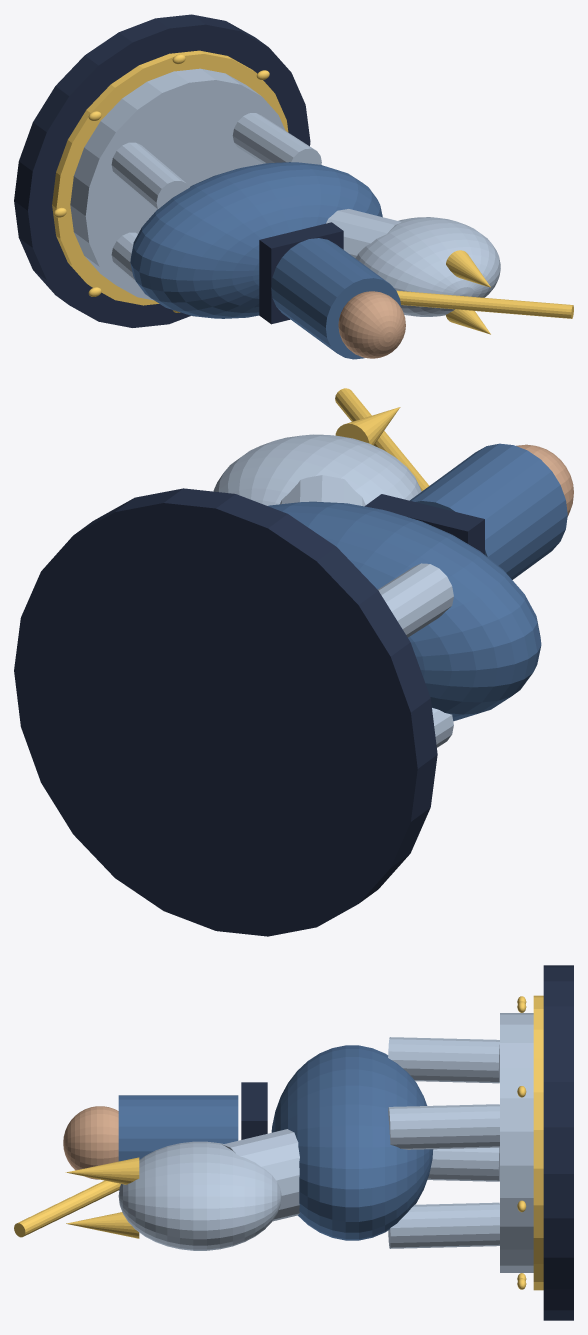
The model's file is hero_knight.glb.
3 renders of one model, top to bottom at view 1: azimuth 30°, elevation 25°; view 2: azimuth 150°, elevation 25°; view 3: azimuth 270°, elevation 25°, orthographic. The views are drawn at different scales.
Parts seen in each view (by area): view 1: body, base, base2, head, ring1, rider, rhead, leg-0.380.25, leg0.380.25, saddle, lance, neck (+3 smaller); view 2: base, body, rider, head, leg-0.380.25, saddle, neck, lance, horn1, rhead; view 3: body, head, base, base2, rider, leg0.380.25, leg-0.380.25, leg0.38-0.25, ring1, neck, rhead, leg-0.38-0.25 (+4 smaller).
Boxes of the visible parts, box(x1,y1,x2,y2) form: body: box(130, 162, 382, 318); base: box(14, 14, 310, 327); base2: box(70, 68, 285, 300); head: box(355, 217, 500, 316); ring1: box(52, 50, 288, 305); rider: box(271, 238, 401, 359); rhead: box(338, 291, 405, 358); leg-0.380.25: box(111, 142, 189, 209); leg0.380.25: box(232, 113, 321, 164); saddle: box(259, 222, 343, 324); lance: box(396, 290, 573, 318); neck: box(326, 209, 400, 258); base: box(14, 488, 437, 936); body: box(268, 501, 541, 721); rider: box(410, 443, 567, 579); head: box(213, 434, 421, 505); leg-0.380.25: box(378, 563, 453, 637); saddle: box(365, 494, 484, 554); neck: box(280, 475, 365, 506); lance: box(335, 388, 429, 491); horn1: box(335, 407, 400, 445); rhead: box(516, 444, 573, 516); body: box(271, 1045, 433, 1240); head: box(118, 1141, 281, 1250); base: box(543, 965, 573, 1320); base2: box(500, 1013, 533, 1272); rider: box(118, 1095, 238, 1190); leg0.380.25: box(388, 1104, 499, 1149); leg-0.380.25: box(388, 1037, 499, 1083); leg0.38-0.25: box(388, 1202, 499, 1248); ring1: box(533, 995, 543, 1290); neck: box(222, 1129, 299, 1221); rhead: box(63, 1106, 118, 1179); leg-0.38-0.25: box(427, 1147, 499, 1181).
Size of the model in its own units: 1.79 by 1.64 by 2.58.
